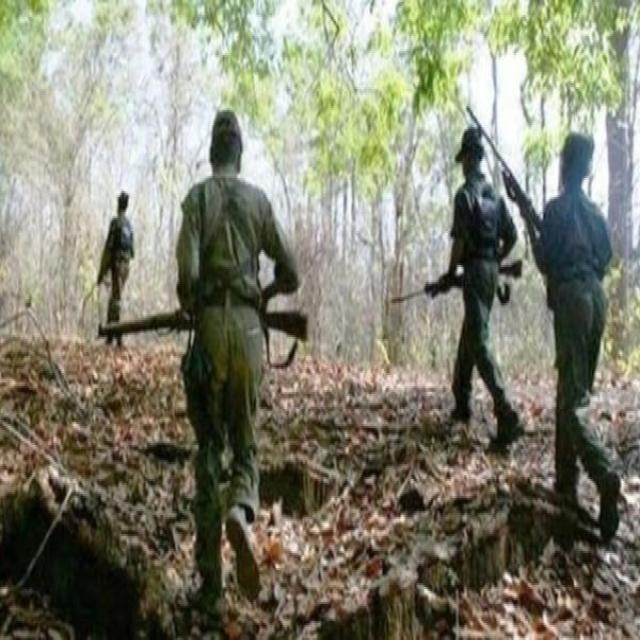Forest: (0, 0, 640, 640)
Militant: (168, 99, 292, 614), (522, 113, 638, 556), (415, 89, 533, 478), (84, 167, 138, 374)
